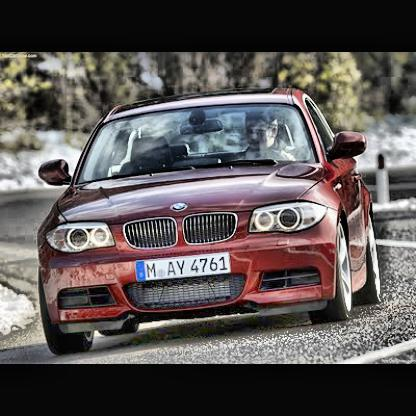BMW 1 Series Coupe 2012: (39, 94, 388, 354)
